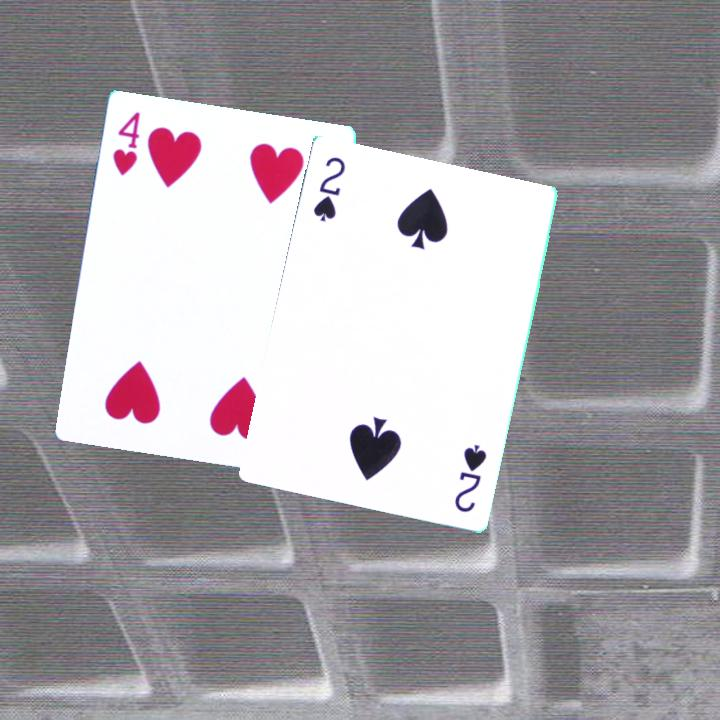2s: (451, 441, 490, 516), (310, 154, 349, 225)
4h: (109, 108, 144, 179)
